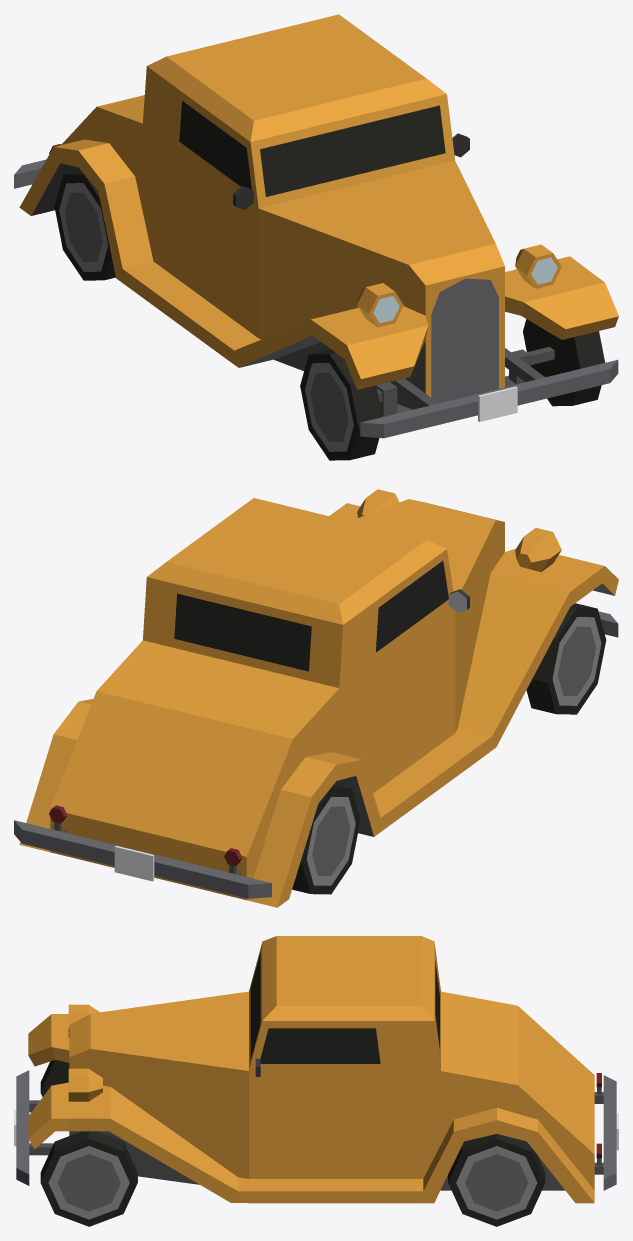
The model's file is Veh_Retro_Car_02_Yellow.glb.
3 renders of one model, top to bottom at view 1: azimuth 30°, elevation 25°; view 2: azimuth 150°, elevation 25°; view 3: azimuth 270°, elevation 25°, orthographic. The views are drawn at different scales.
Parts seen in each view (by area): view 1: Retro_Car_02_Yellow, Wheel_FR, Wheel_RR, Wheel_FL; view 2: Retro_Car_02_Yellow, Wheel_FR, Wheel_RR; view 3: Retro_Car_02_Yellow, Wheel_FL, Wheel_RL, Wheel_FR.
Part boxes in pixels (x1,y1,x2,y2): Retro_Car_02_Yellow: (14,14,618,438); Wheel_FR: (300,349,382,460); Wheel_RR: (54,170,115,280); Wheel_FL: (523,319,604,406); Retro_Car_02_Yellow: (14,489,618,907); Wheel_FR: (526,603,606,714); Wheel_RR: (292,784,360,894); Retro_Car_02_Yellow: (14,936,618,1203); Wheel_FL: (40,1131,137,1226); Wheel_RL: (448,1134,545,1226); Wheel_FR: (40,1060,69,1096).
Size of the model in its own units: 0.9825 by 0.8995 by 2.4.
Materials: 1 (1 with a texture image).
